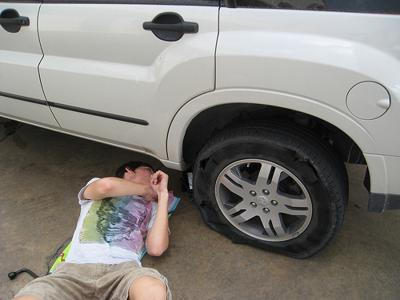person: (9, 158, 182, 300)
